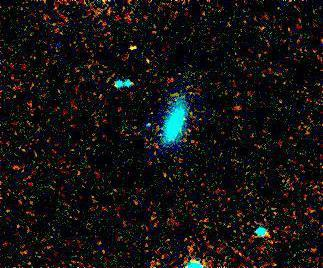star: (115, 35, 145, 65)
